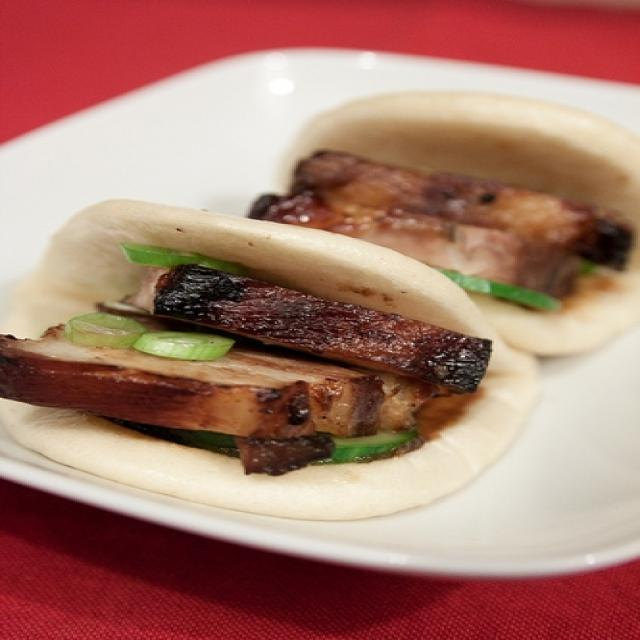牛肉菜式: (6, 44, 628, 584)
